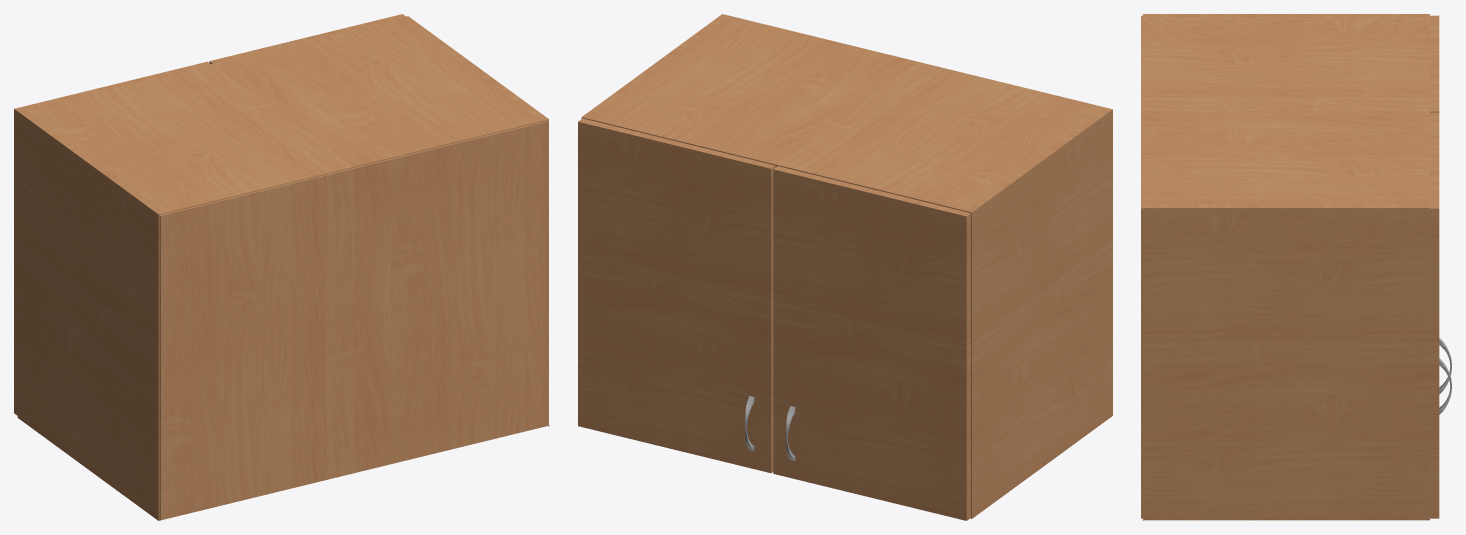
Rendered from antresol_dlya_shkafa_5.glb.
3 renders of one model, left to right at view 1: azimuth 30°, elevation 25°; view 2: azimuth 150°, elevation 25°; view 3: azimuth 270°, elevation 25°, orthographic.
Visible parts, largest first — view 1: Shape_IndexedFaceSet.004_NON, Shape_IndexedFaceSet.008, Shape_IndexedFaceSet.006, Shape_IndexedFaceSet.003, Shape_IndexedFaceSet.005, Shape_IndexedFaceSet.001; view 2: Shape_IndexedFaceSet.003, Shape_IndexedFaceSet.001, Shape_IndexedFaceSet.008, Shape_IndexedFaceSet.006, Shape_IndexedFaceSet.005; view 3: Shape_IndexedFaceSet.005, Shape_IndexedFaceSet.008, Shape_IndexedFaceSet.001, Shape_IndexedFaceSet.006, Shape_IndexedFaceSet.004_NON, Shape_IndexedFaceSet.003.
Boxes of the visible parts, bbox=[...] form: Shape_IndexedFaceSet.004_NON: bbox=[159, 120, 548, 520]; Shape_IndexedFaceSet.008: bbox=[26, 18, 541, 213]; Shape_IndexedFaceSet.006: bbox=[17, 109, 166, 520]; Shape_IndexedFaceSet.003: bbox=[14, 61, 210, 415]; Shape_IndexedFaceSet.005: bbox=[401, 16, 548, 121]; Shape_IndexedFaceSet.001: bbox=[209, 14, 405, 63]; Shape_IndexedFaceSet.003: bbox=[773, 166, 970, 520]; Shape_IndexedFaceSet.001: bbox=[578, 118, 775, 473]; Shape_IndexedFaceSet.008: bbox=[589, 16, 1104, 211]; Shape_IndexedFaceSet.006: bbox=[964, 107, 1112, 518]; Shape_IndexedFaceSet.005: bbox=[581, 14, 729, 119]; Shape_IndexedFaceSet.005: bbox=[1143, 204, 1429, 520]; Shape_IndexedFaceSet.008: bbox=[1143, 18, 1429, 204]; Shape_IndexedFaceSet.001: bbox=[1430, 112, 1439, 518]; Shape_IndexedFaceSet.006: bbox=[1143, 14, 1429, 17]; Shape_IndexedFaceSet.004_NON: bbox=[1141, 15, 1142, 518]; Shape_IndexedFaceSet.003: bbox=[1430, 15, 1439, 112].
Size of the model in its own units: 801 by 601 by 541.
Materials: 11 (10 with a texture image).
